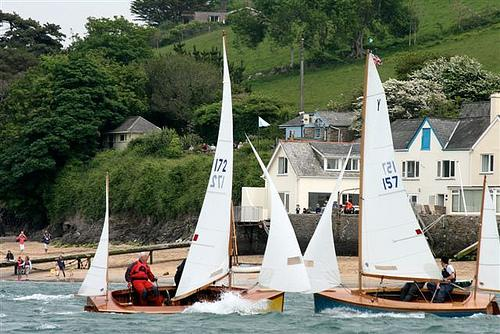Ship: (75, 29, 310, 313), (310, 49, 500, 319)
